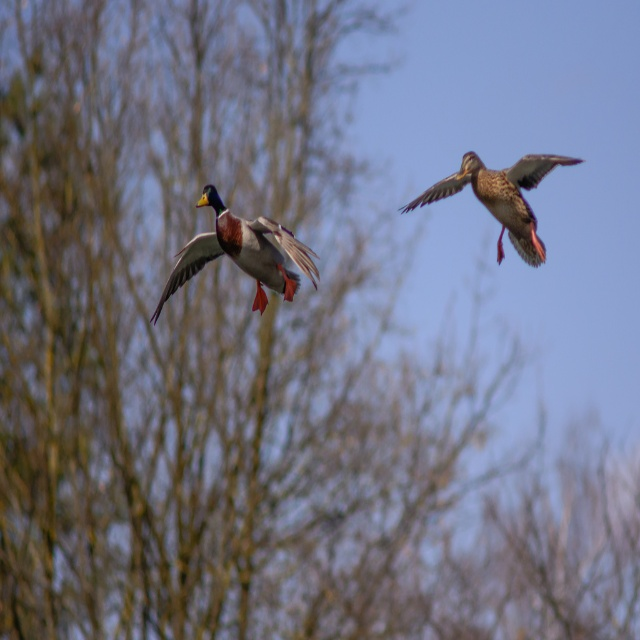Duck: (151, 178, 329, 319), (395, 149, 591, 272)
